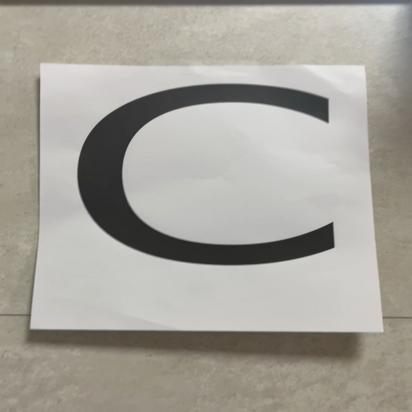seat: (46, 69, 370, 331)
